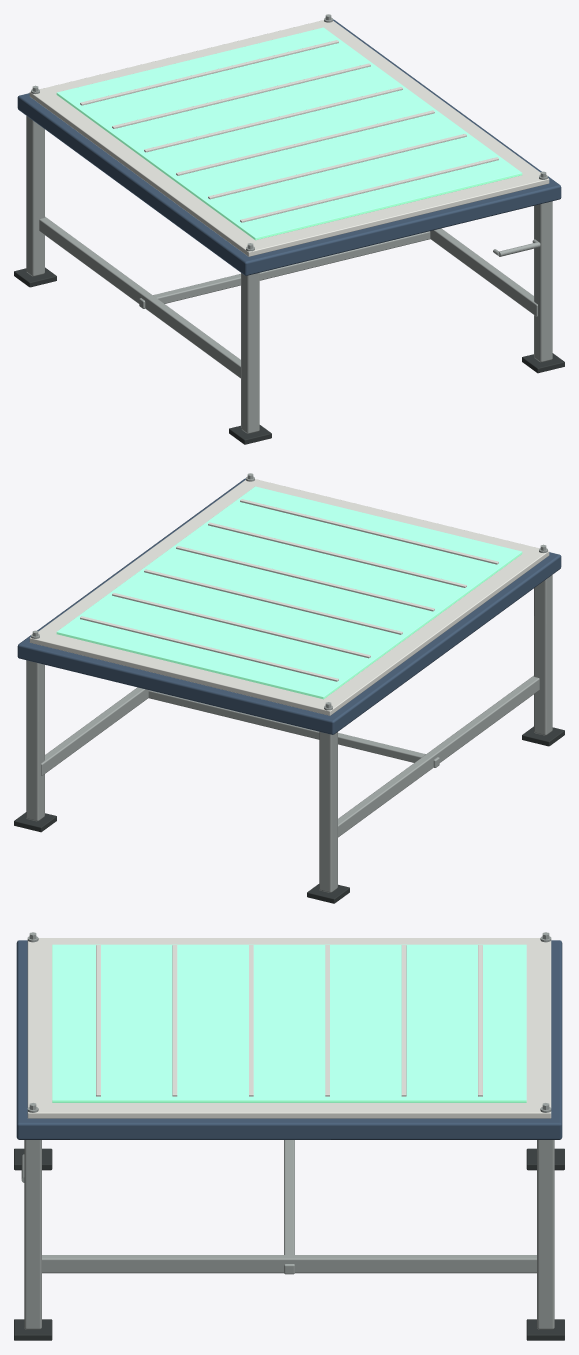
File: spacecraft-parachute-packing-hall-spacecraft-parachute-84d65287__32078.glb
3 views of the same model, one above another, from view 1: azimuth 30°, elevation 25°; view 2: azimuth 150°, elevation 25°; view 3: azimuth 270°, elevation 25° (orthographic). The views are drawn at different scales.
Visible parts, largest first — view 1: spacecraft-parachute-packing-hall-canopy-inspection-light-be (×5); view 2: spacecraft-parachute-packing-hall-canopy-inspection-light-be (×5); view 3: spacecraft-parachute-packing-hall-canopy-inspection-light-be (×5).
Part boxes in pixels (<box>): spacecraft-parachute-packing-hall-canopy-inspection-light-be (×5): <box>14,14,564,444</box>; spacecraft-parachute-packing-hall-canopy-inspection-light-be (×5): <box>14,473,564,903</box>; spacecraft-parachute-packing-hall-canopy-inspection-light-be (×5): <box>14,932,564,1340</box>.
Bounding box in the file's own units: 1.62 × 0.925 × 2.02.
